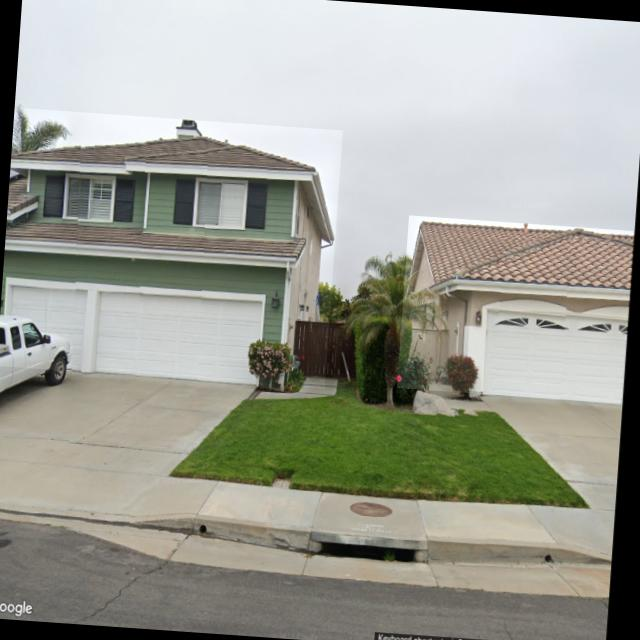House: (0, 107, 342, 389), (396, 214, 633, 403)
